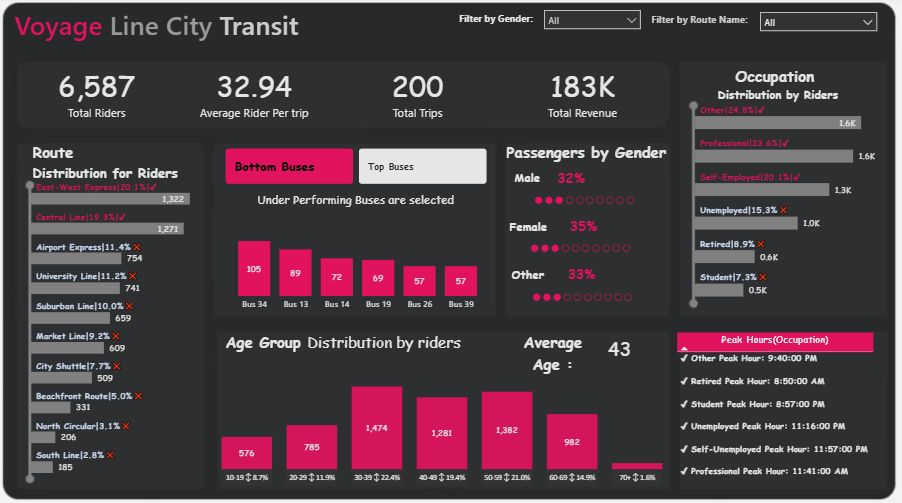

Layout of this report page (visuals, bound fields, positions):
{"tool":"powerbi","page":{"name":"Metrics","canvas":[1280,720],"ordinal":2},"visuals":[{"type":"columnChart","fields":{"Category":["Lookup_buses.BusNumber"],"Y":["measures (2).BottomN"]},"box":[311.8,305.8,396.8,147.7],"z":0},{"type":"advancedSlicerVisual","fields":{"Values":["Dynamic TopN.Dynamic TopN"]},"box":[317.1,210,380,60],"z":1},{"type":"card","fields":{"Values":["measures (2).Caption"]},"box":[356.6,273,299.9,32.8],"z":2},{"type":"slicer","fields":{"Values":["Lookup_routes.RouteName"]},"box":[1070.1,11.3,185.7,42.5],"z":3},{"type":"textbox","box":[921.3,18.4,148.8,28.3],"z":4},{"type":"textbox","box":[640.6,17,134.6,29.8],"z":5},{"type":"textbox","box":[18.4,8.5,462,69.4],"z":6},{"type":"slicer","fields":{"Values":["Lookup_demographics.Gender"]},"box":[763.9,8.5,157.3,42.5],"z":7},{"type":"tableEx","fields":{"Values":["measures (2).Peak Hours(Occupation)"]},"box":[956.3,469.9,298.4,238.7],"z":8},{"type":"card","fields":{"Values":["measures (2).Male Chart"]},"box":[730.6,269.7,202.6,35.7],"z":9},{"type":"textbox","box":[716.1,199.9,240.2,40.3],"z":10},{"type":"textbox","box":[726.5,240.2,49.2,38.8],"z":11},{"type":"card","fields":{"Values":["measures (2).Pct Male"]},"box":[775.3,240.9,73.7,35.4],"z":12},{"type":"card","fields":{"Values":["measures (2).Female Chart"]},"box":[724.2,337.9,202.6,35.7],"z":13},{"type":"textbox","box":[720.6,308.8,68.6,38.8],"z":14},{"type":"card","fields":{"Values":["measures (2).Pct Female"]},"box":[789.2,308.8,80.6,35.8],"z":15},{"type":"card","fields":{"Values":["measures (2).Other Chart"]},"box":[727.2,406.5,202.6,35.7],"z":16},{"type":"textbox","box":[723.5,377.4,65.6,38.8],"z":17},{"type":"card","fields":{"Values":["measures (2).Pct Other"]},"box":[789.2,377.4,74.6,35.8],"z":18},{"type":"columnChart","fields":{"Category":["Lookup_demographics.Age Bucket"],"Y":["measures (2).Blank measure","measures (2).Total Riders(passengers)"]},"box":[312.1,520.1,637.1,187.8],"z":19},{"type":"textbox","box":[317.8,469.5,380,40.5],"z":20},{"type":"textbox","box":[726.7,469.5,118.5,75.1],"z":21},{"type":"card","fields":{"Values":["measures (2).Total Riders(passengers)"]},"box":[43.3,92.5,192.1,88.1],"z":22},{"type":"card","fields":{"Values":["measures (2).Avg Rider Age"]},"box":[836.5,469.5,89.6,60.7],"z":23},{"type":"card","fields":{"Values":["measures (2).Average Rider Per trip"]},"box":[271.6,92.5,182,88.1],"z":24},{"type":"card","fields":{"Values":["measures (2).Total Trips"]},"box":[510,92.5,169,88.1],"z":25},{"type":"card","fields":{"Values":["measures (2).Total Revenue"]},"box":[744,92.5,169,88.1],"z":26},{"type":"textbox","box":[970.9,92.1,269.3,75.1],"z":27},{"type":"textbox","box":[43.9,199.8,240.9,69.4],"z":28},{"type":"clusteredBarChart","fields":{"Category":["Lookup_demographics.Occupation"],"Y":["measures (2).Blank measure2","measures (2).Total Riders(passengers)"]},"box":[982,137,270,293.4],"z":29},{"type":"clusteredBarChart","fields":{"Y":["measures (2).Blank measure2","measures (2).Total Riders(passengers)"],"Category":["Lookup_routes.RouteName"]},"box":[41.1,248,258,432.3],"z":30}]}

Visuals, with their boxes in screenshot pixels (x1, y1, x2, y2), scaled from the page's 1280x720 canvas onto the 902x503 screenshot:
columnChart - Lookup_buses.BusNumber x measures (2).BottomN: {"left": 220, "top": 214, "right": 499, "bottom": 317}
advancedSlicerVisual - Dynamic TopN.Dynamic TopN: {"left": 223, "top": 147, "right": 491, "bottom": 189}
card - measures (2).Caption: {"left": 251, "top": 191, "right": 463, "bottom": 214}
slicer - Lookup_routes.RouteName: {"left": 754, "top": 8, "right": 885, "bottom": 38}
textbox: {"left": 649, "top": 13, "right": 754, "bottom": 33}
textbox: {"left": 451, "top": 12, "right": 546, "bottom": 33}
textbox: {"left": 13, "top": 6, "right": 339, "bottom": 54}
slicer - Lookup_demographics.Gender: {"left": 538, "top": 6, "right": 649, "bottom": 36}
tableEx - measures (2).Peak Hours(Occupation): {"left": 674, "top": 328, "right": 884, "bottom": 495}
card - measures (2).Male Chart: {"left": 515, "top": 188, "right": 658, "bottom": 213}
textbox: {"left": 505, "top": 140, "right": 674, "bottom": 168}
textbox: {"left": 512, "top": 168, "right": 547, "bottom": 195}
card - measures (2).Pct Male: {"left": 546, "top": 168, "right": 598, "bottom": 193}
card - measures (2).Female Chart: {"left": 510, "top": 236, "right": 653, "bottom": 261}
textbox: {"left": 508, "top": 216, "right": 556, "bottom": 243}
card - measures (2).Pct Female: {"left": 556, "top": 216, "right": 613, "bottom": 241}
card - measures (2).Other Chart: {"left": 512, "top": 284, "right": 655, "bottom": 309}
textbox: {"left": 510, "top": 264, "right": 556, "bottom": 291}
card - measures (2).Pct Other: {"left": 556, "top": 264, "right": 609, "bottom": 289}
columnChart - Lookup_demographics.Age Bucket x measures (2).Blank measure: {"left": 220, "top": 363, "right": 669, "bottom": 495}
textbox: {"left": 224, "top": 328, "right": 492, "bottom": 356}
textbox: {"left": 512, "top": 328, "right": 596, "bottom": 380}
card - measures (2).Total Riders(passengers): {"left": 31, "top": 65, "right": 166, "bottom": 126}
card - measures (2).Avg Rider Age: {"left": 589, "top": 328, "right": 653, "bottom": 370}
card - measures (2).Average Rider Per trip: {"left": 191, "top": 65, "right": 320, "bottom": 126}
card - measures (2).Total Trips: {"left": 359, "top": 65, "right": 478, "bottom": 126}
card - measures (2).Total Revenue: {"left": 524, "top": 65, "right": 643, "bottom": 126}
textbox: {"left": 684, "top": 64, "right": 874, "bottom": 117}
textbox: {"left": 31, "top": 140, "right": 201, "bottom": 188}
clusteredBarChart - Lookup_demographics.Occupation x measures (2).Blank measure2: {"left": 692, "top": 96, "right": 882, "bottom": 301}
clusteredBarChart - measures (2).Blank measure2 x measures (2).Total Riders(passengers): {"left": 29, "top": 173, "right": 211, "bottom": 475}
